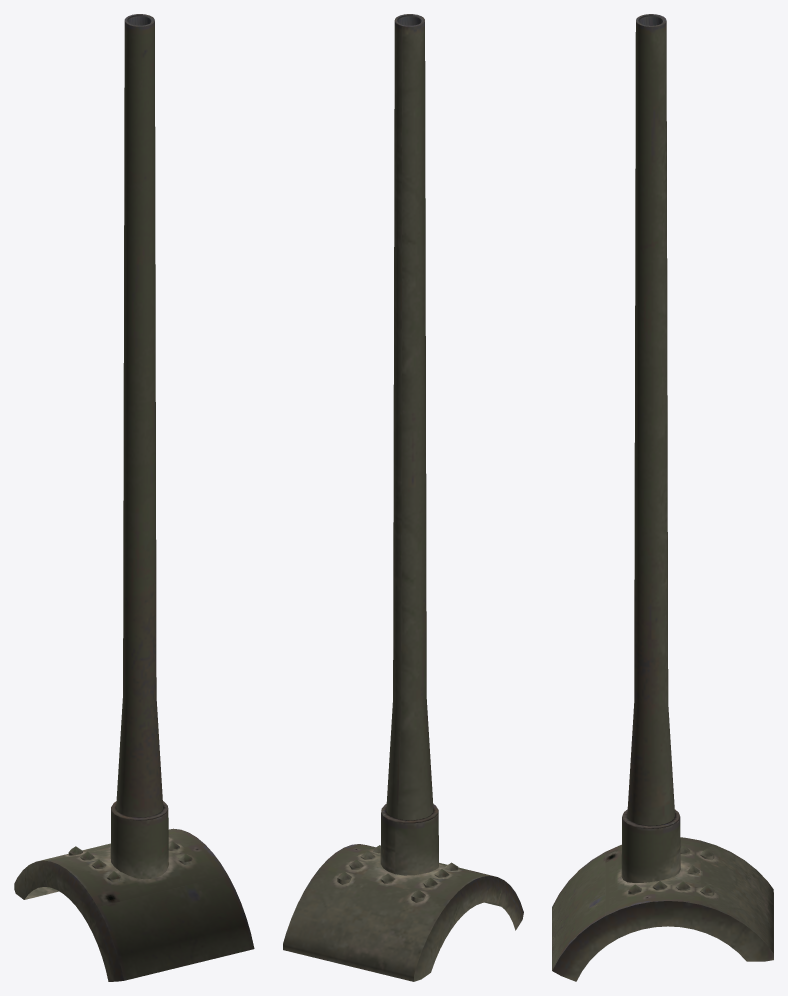
File: Gun_07.glb
3 renders of one model, left to right at view 1: azimuth 30°, elevation 25°; view 2: azimuth 150°, elevation 25°; view 3: azimuth 270°, elevation 25°, orthographic.
Visible parts, largest first — view 1: set_0_group_0; view 2: set_0_group_0; view 3: set_0_group_0.
Part boxes in pixels (x1,y1,x2,y2): set_0_group_0: [14, 14, 254, 981]; set_0_group_0: [283, 14, 523, 981]; set_0_group_0: [552, 14, 773, 981].
Bounding box in the file's own units: 0.6845 × 4.36 × 0.9444.
1 material, 1 textured.
